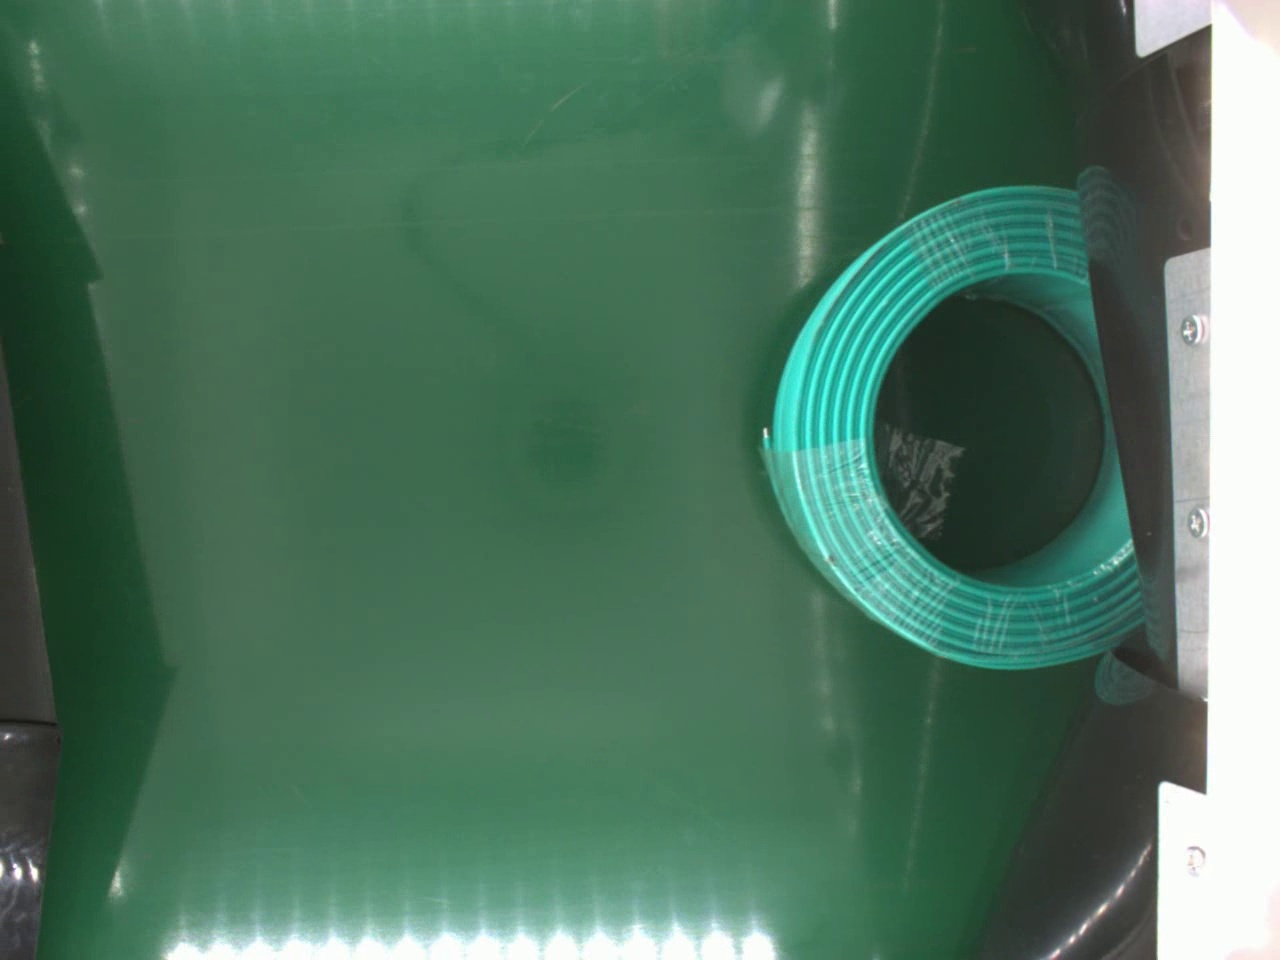green: (757, 179, 1150, 667)
